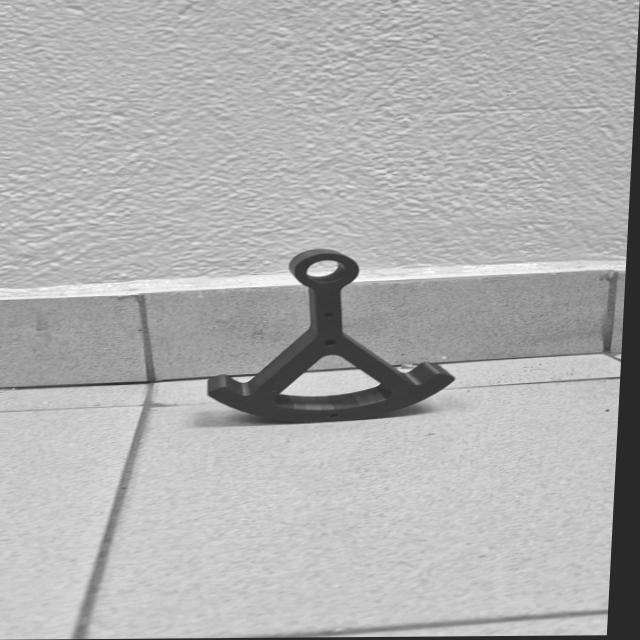haptic: (203, 247, 464, 425)
